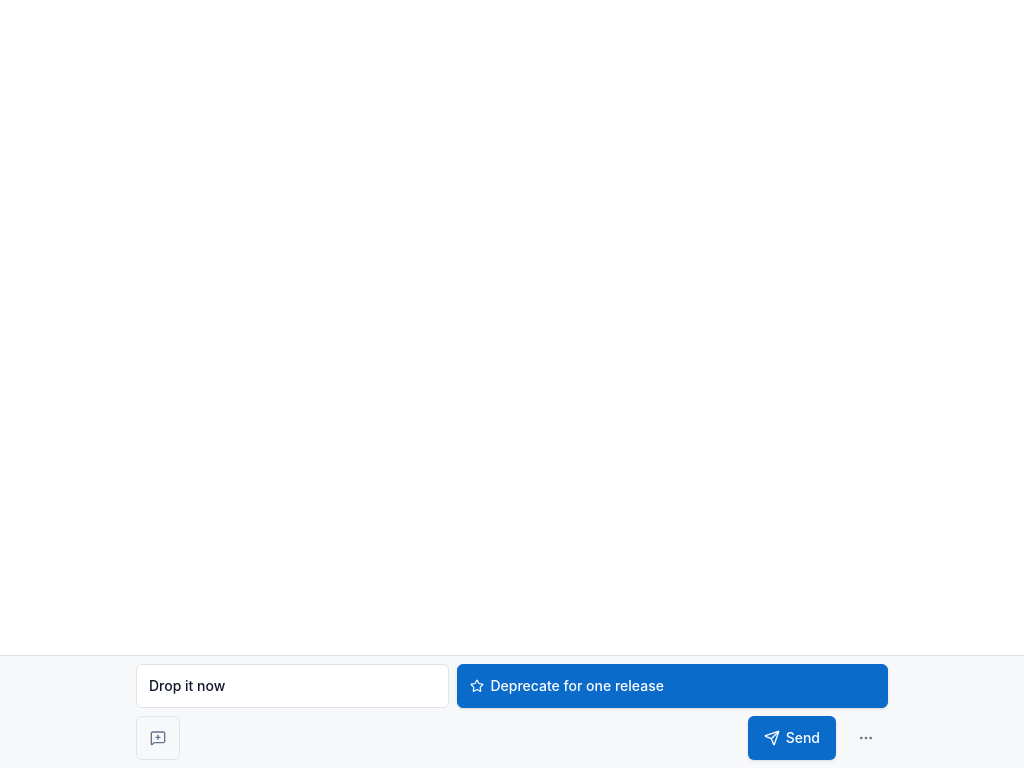
Scenario: the answer controls are all visible or Send is off › names what Send will send when the keyboard has hidden the options
Click the button named "Add a note" at [158, 738], box x1=136 y1=716 x2=180 y2=760
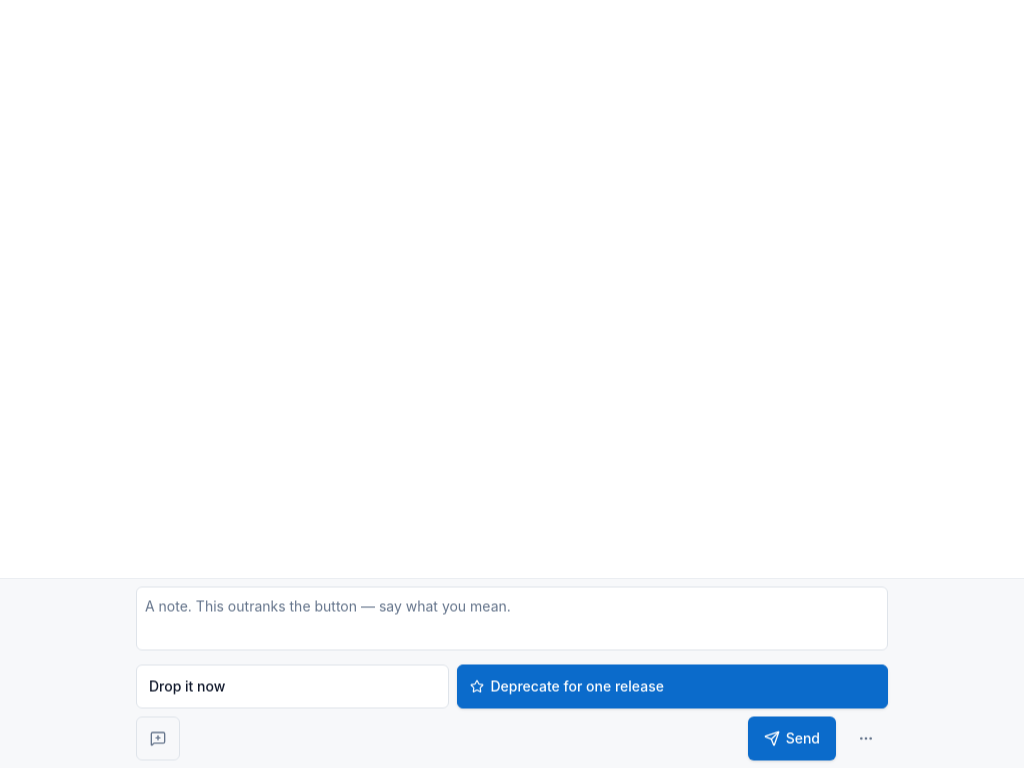
Focus the text box at [512, 618], box x1=136 y1=586 x2=888 y2=650
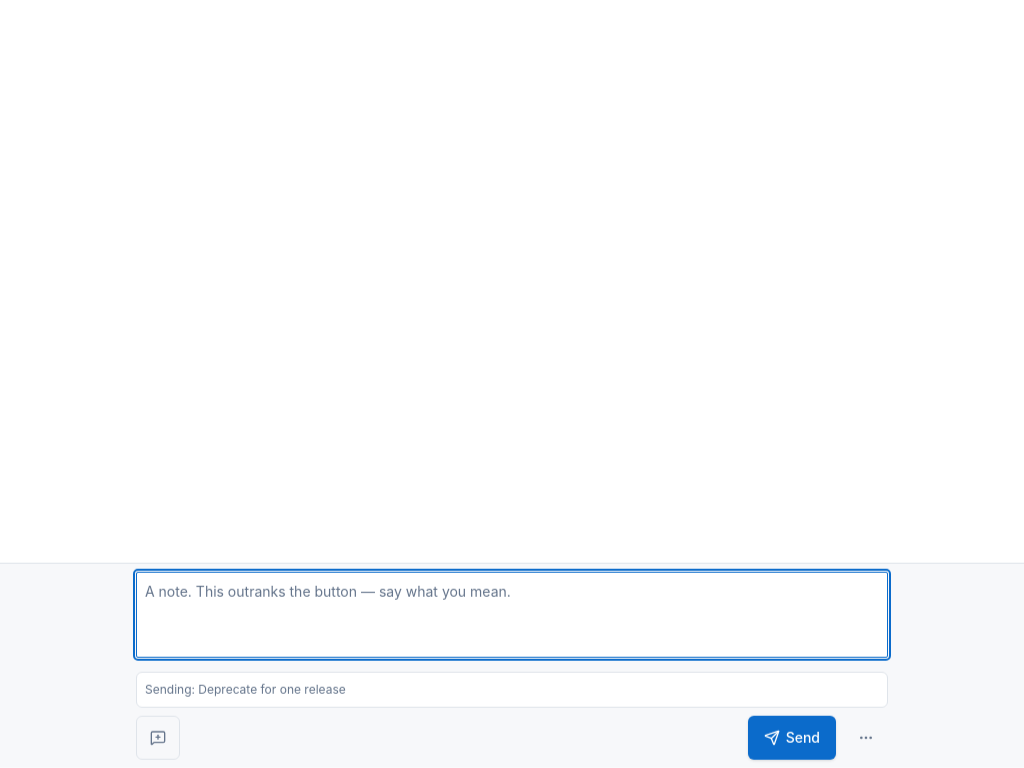
Expected: the text "Sending: Deprecate for one release" is shown, x1=145 y1=682 x2=346 y2=698
